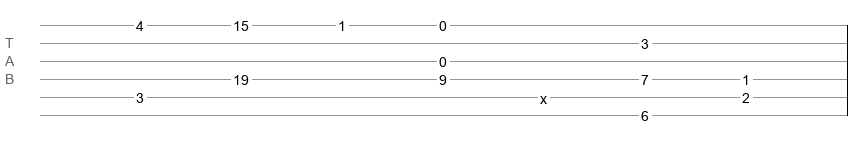0: (439, 18, 447, 28), (439, 54, 447, 64)
1: (338, 18, 346, 28), (742, 72, 750, 82)
15: (233, 18, 249, 28)
19: (233, 72, 249, 82)
2: (742, 90, 750, 100)
3: (136, 90, 144, 100), (641, 36, 649, 46)
4: (136, 18, 144, 28)
6: (641, 108, 649, 118)
7: (641, 72, 649, 82)
9: (439, 72, 447, 82)
x: (540, 91, 547, 99)
